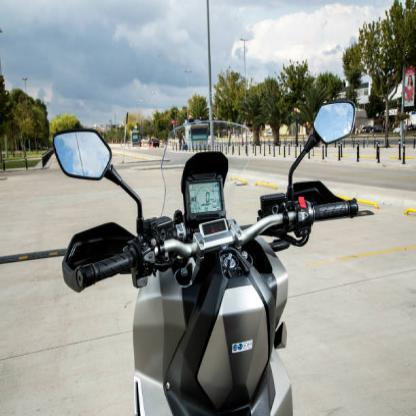Motorcycle: (50, 93, 367, 415)
